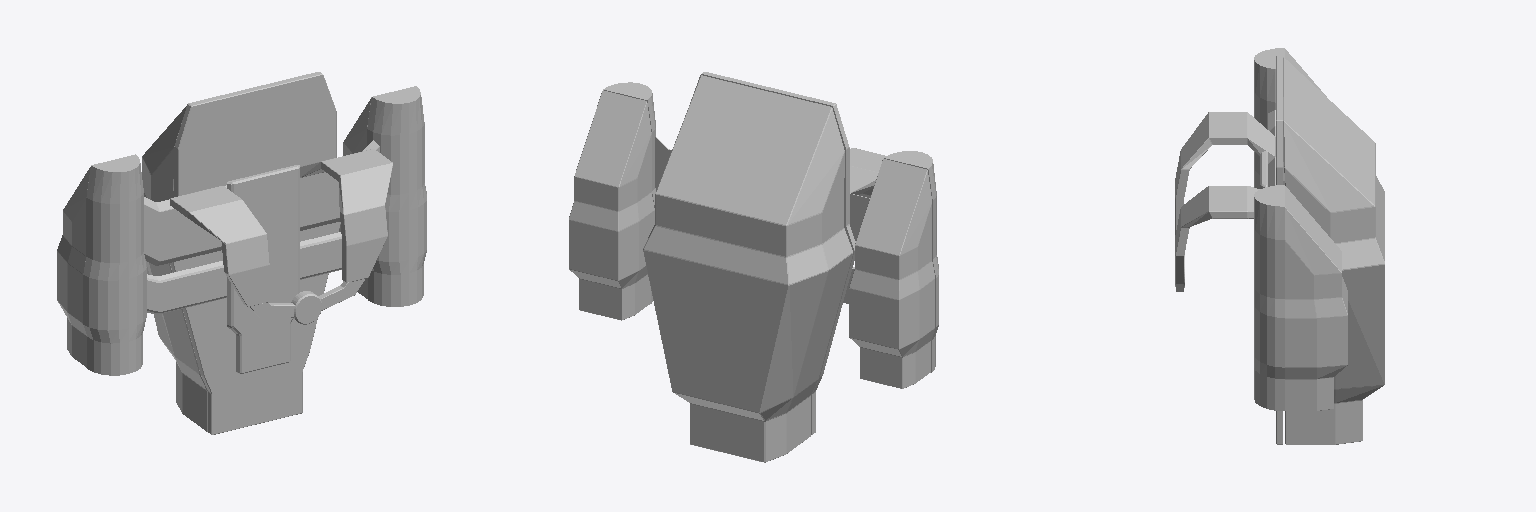
Rendered from JetPack_01.obj.
3 views of the same model, side by side, from view 1: azimuth 30°, elevation 25°; view 2: azimuth 150°, elevation 25°; view 3: azimuth 270°, elevation 25° (orthographic).
Parts seen in each view (by area): view 1: JetPack_01; view 2: JetPack_01; view 3: JetPack_01.
Part boxes in pixels (left/top/right/bottom): JetPack_01: left=57, top=72, right=426, bottom=434; JetPack_01: left=569, top=72, right=938, bottom=462; JetPack_01: left=1175, top=48, right=1384, bottom=444.
Size of the model in its own units: 4.62 by 4.34 by 2.48.